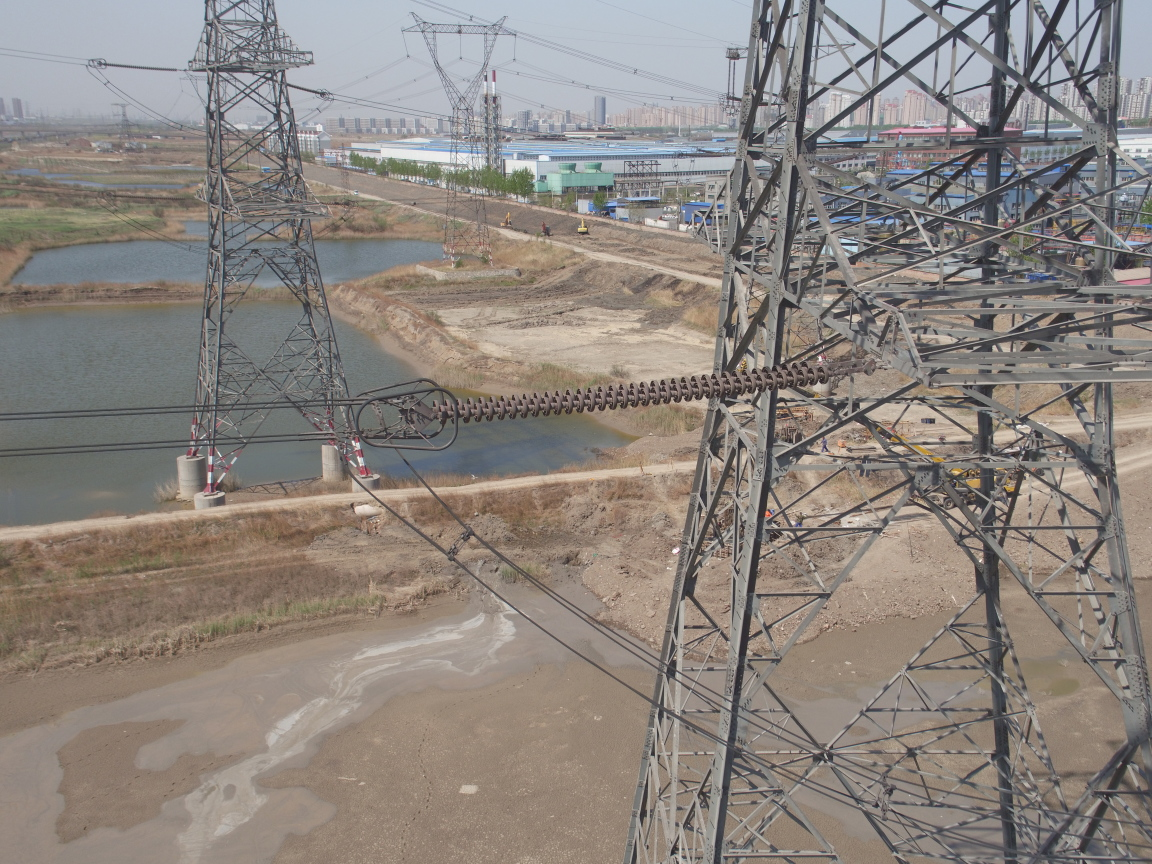insulator: (425, 357, 847, 429)
